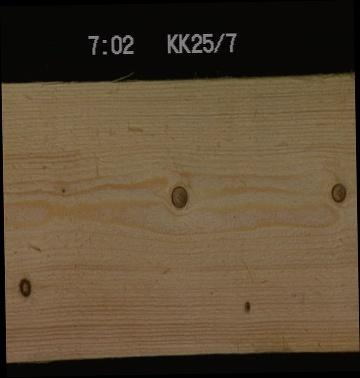dry_knot: (168, 183, 188, 210), (328, 179, 347, 203), (15, 275, 33, 298)
small_knot: (239, 297, 252, 313)
